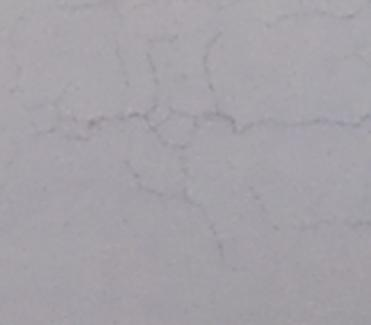fissura: (77, 32, 368, 254)
